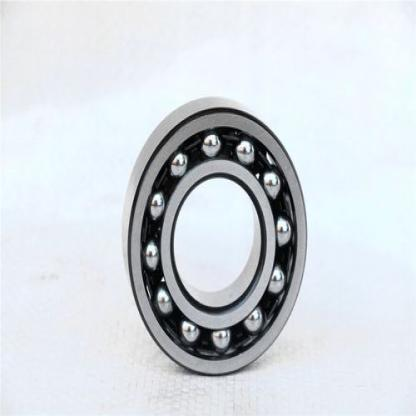FOD: (116, 95, 311, 378)
